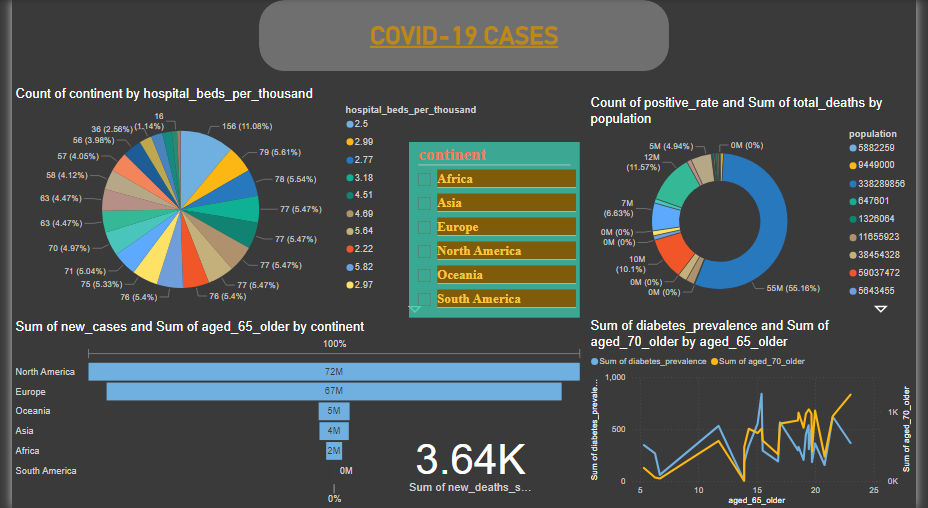

This screenshot's page, from the dashboard's own definition file:
{"tool":"powerbi","page":{"name":"Page 1","canvas":[1280,720],"ordinal":0},"visuals":[{"type":"funnel","fields":{"Category":["covid_data.continent"],"Y":["Sum(covid_data.new_cases)"]},"box":[0,451.9,814.7,268.8],"z":0},{"type":"pieChart","fields":{"Y":["CountNonNull(covid_data.continent)"],"Category":["covid_data.hospital_beds_per_thousand"]},"box":[0,121.9,671.8,328.8],"z":1000},{"type":"card","fields":{"Values":["Sum(covid_data.new_deaths_smoothed_per_million)"]},"box":[551.3,598.1,197,112],"z":2000},{"type":"donutChart","fields":{"Category":["covid_data.population"],"Y":["CountNonNull(covid_data.positive_rate)","Sum(covid_data.total_deaths)"]},"box":[814.7,134.4,465.3,315.8],"z":3000},{"type":"lineChart","fields":{"Category":["covid_data.aged_65_older"],"Y2":["Sum(covid_data.aged_70_older)"],"Y":["Sum(covid_data.diabetes_prevalence)"]},"box":[814.7,450.2,465.3,270.4],"z":4000},{"type":"slicer","fields":{"Values":["covid_data.continent"]},"box":[562.7,201.3,242.4,249.4],"z":5000},{"type":"shape","box":[349.4,0,581.2,100.8],"z":6000}]}

Visuals, with their boxes in screenshot pixels (x1, y1, x2, y2), scaled from the page's 1280x720 canvas onto the 928x508 screenshot:
funnel - covid_data.continent x Sum(covid_data.new_cases): 0, 319, 591, 507
pieChart - CountNonNull(covid_data.continent) x covid_data.hospital_beds_per_thousand: 0, 86, 487, 318
card - Sum(covid_data.new_deaths_smoothed_per_million): 400, 422, 543, 501
donutChart - covid_data.population x CountNonNull(covid_data.positive_rate): 591, 95, 927, 318
lineChart - covid_data.aged_65_older x Sum(covid_data.aged_70_older): 591, 318, 927, 507
slicer - covid_data.continent: 408, 142, 584, 318
shape: 253, 0, 675, 71
